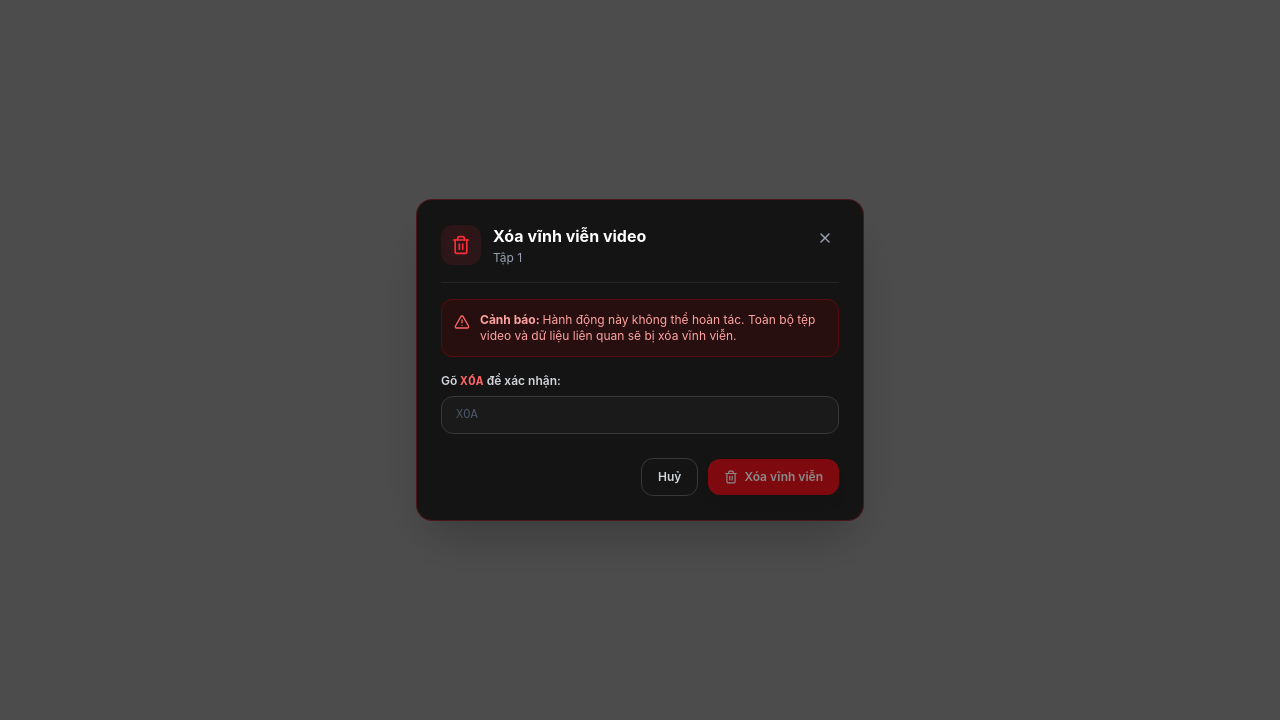
Scenario: DeleteVideoDialog confirmation word › accepts xóa
Type "xóa" into the field with test id "confirm-delete-input" at (640, 415), box x1=441 y1=396 x2=839 y2=434
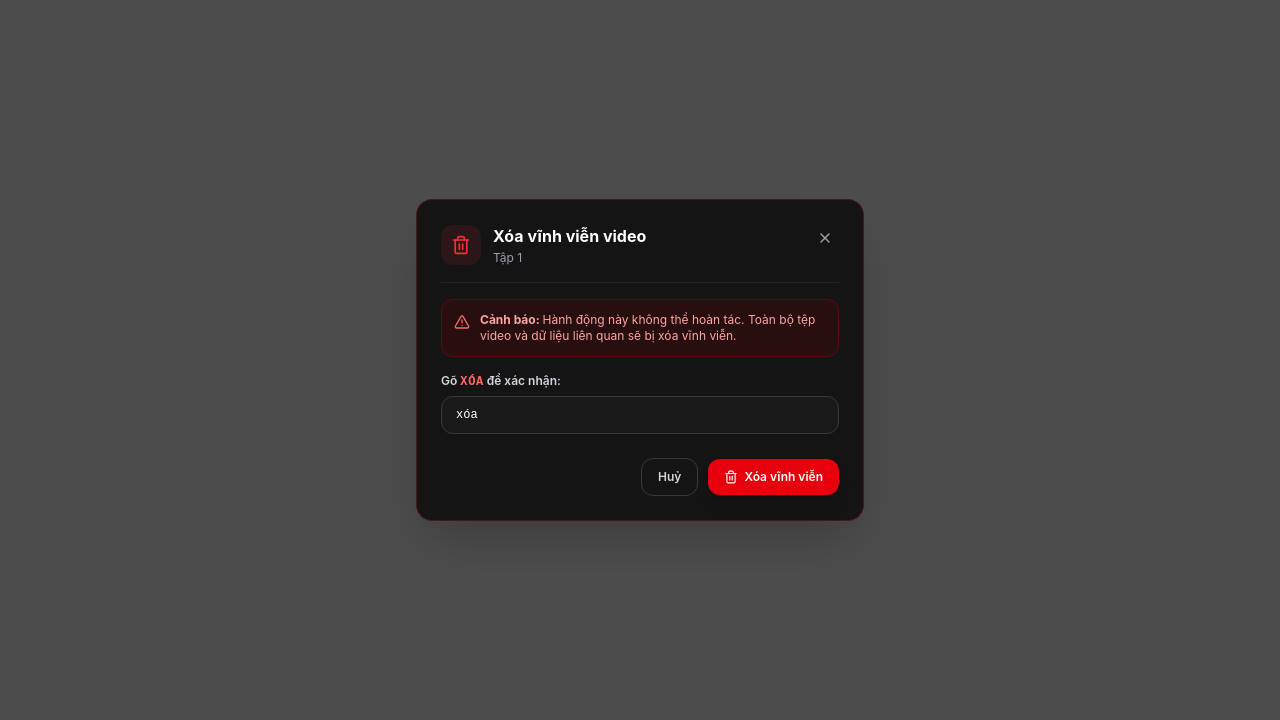
Check: the button with test id "confirm-delete-submit-btn" is enabled, box x1=708 y1=459 x2=839 y2=495
